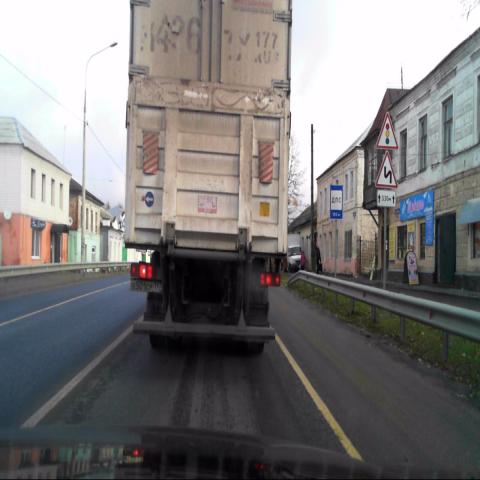1_12_2: (375, 151, 397, 189)
7_12: (330, 185, 342, 220)
8_2_1: (376, 190, 395, 207)
